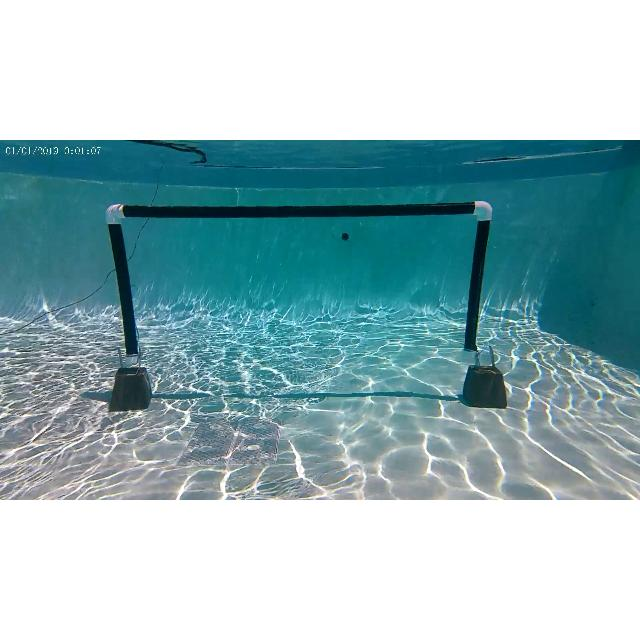prequal gate: (108, 201, 492, 363)
prequal gate leg l: (98, 200, 158, 416)
prequal gate leg r: (460, 197, 514, 411)
